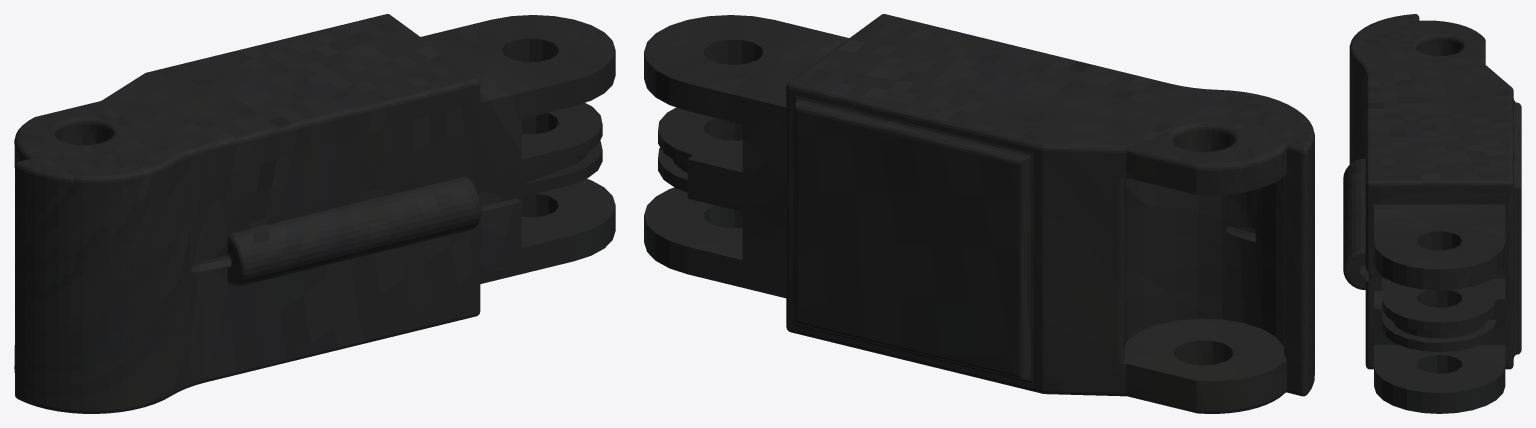
The model's file is gripper_left_proximal_link.dae.
The picture shows the model from 3 angles, left to right: view 1: azimuth 30°, elevation 25°; view 2: azimuth 150°, elevation 25°; view 3: azimuth 270°, elevation 25°; orthographic projection. The views are drawn at different scales.
Visible parts, largest first — view 1: node; view 2: node; view 3: node.
Boxes of the visible parts, <box> form: node: <box>14,14,615,413</box>; node: <box>644,14,1314,413</box>; node: <box>1343,14,1521,413</box>.
Bounding box in the file's own units: 0.0677 × 0.0217 × 0.0254.
1 material, 1 textured.
